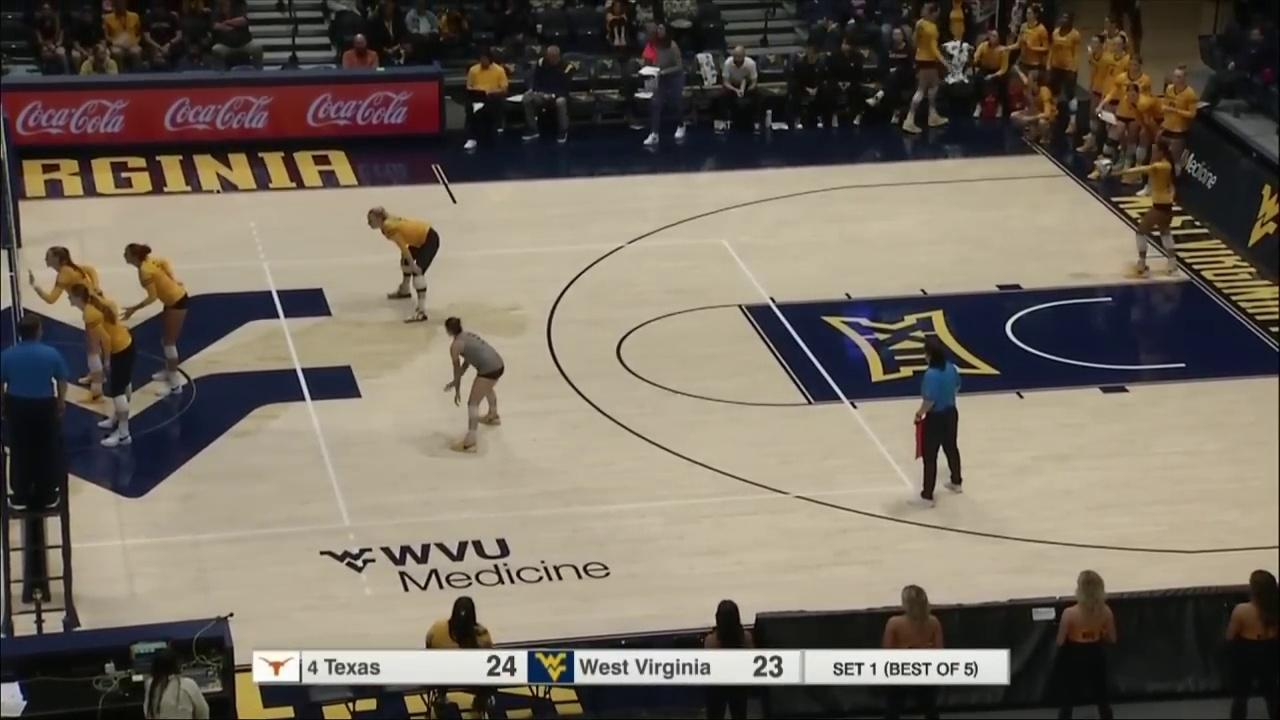player: (35, 245, 126, 389), (118, 245, 204, 397), (69, 287, 138, 450), (436, 320, 507, 460), (366, 203, 446, 321), (1128, 139, 1181, 282)
refree: (3, 309, 69, 513), (911, 339, 970, 509)
